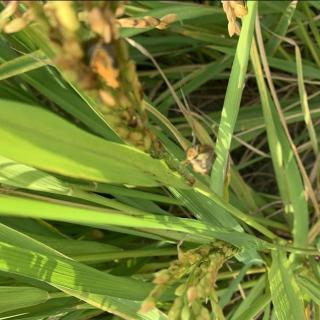Gosong-Palsu: (185, 143, 217, 175)
